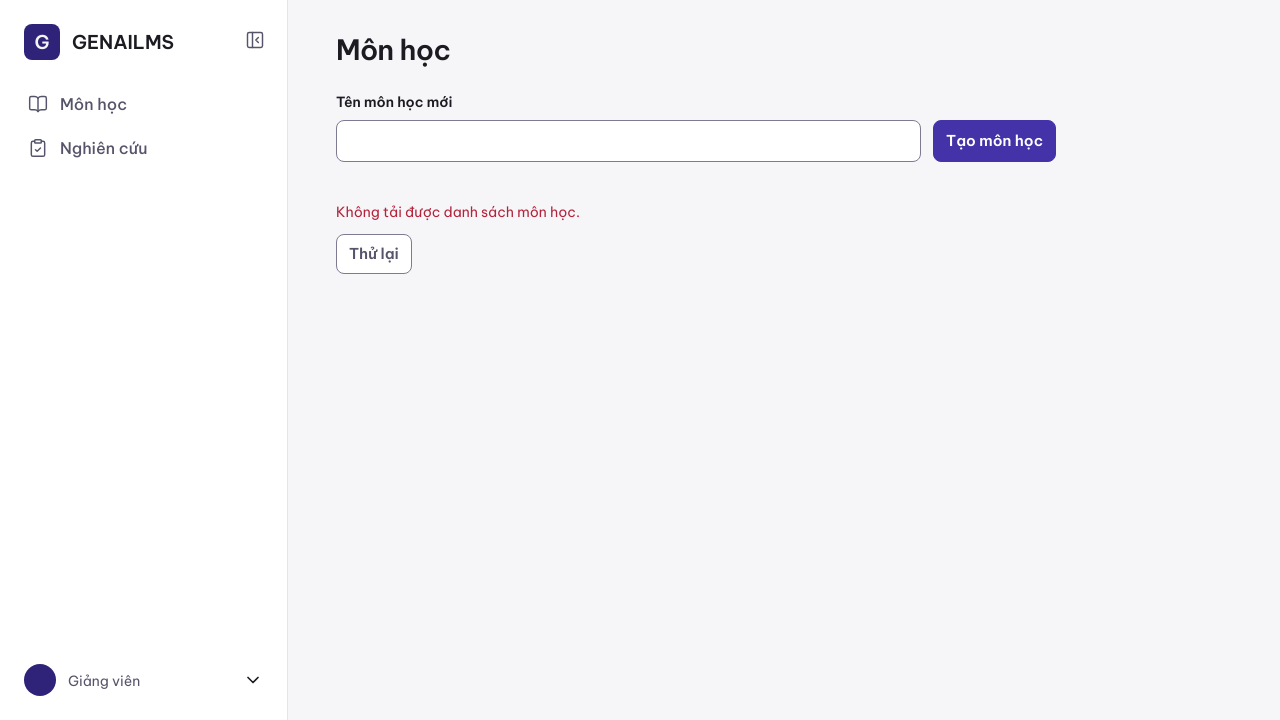
Test: CoursesPage - load failure › says the list could not be loaded instead of claiming there are no courses, and retries
The width and height of the screenshot is (1280, 720).
Expected: the message reads "Không tải được danh sách môn học.", x1=336 y1=203 x2=580 y2=221
Step 1. Click the button "Thử lại" → click(374, 254), box x1=336 y1=234 x2=412 y2=274
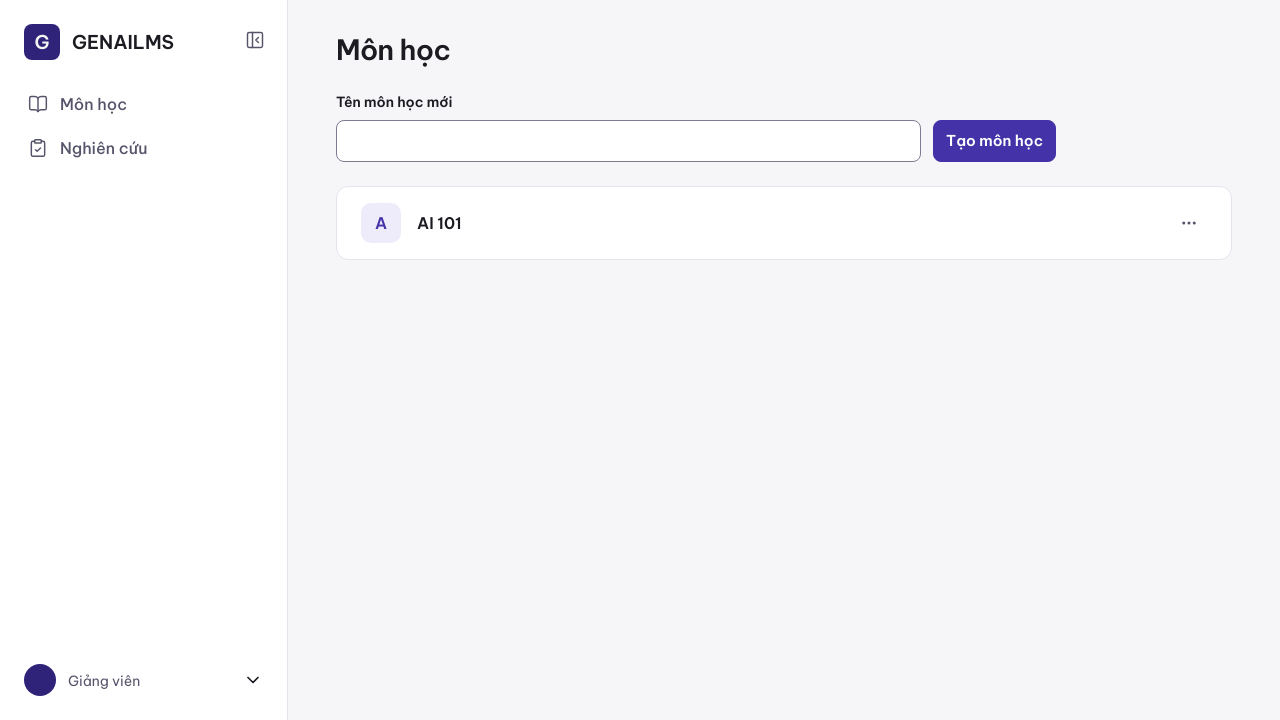
Expected: the link "AI 101" is shown, x1=417 y1=213 x2=462 y2=233
Expected: the message "Không tải được danh sách môn học." is gone
